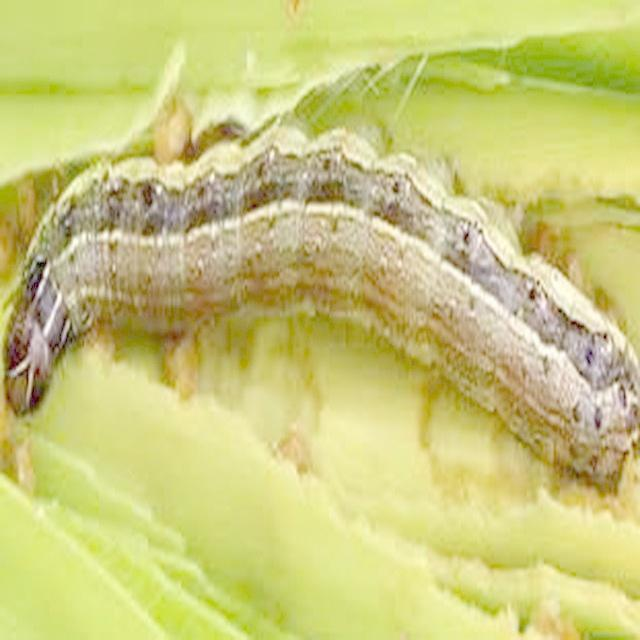worm: (1, 114, 640, 501)
